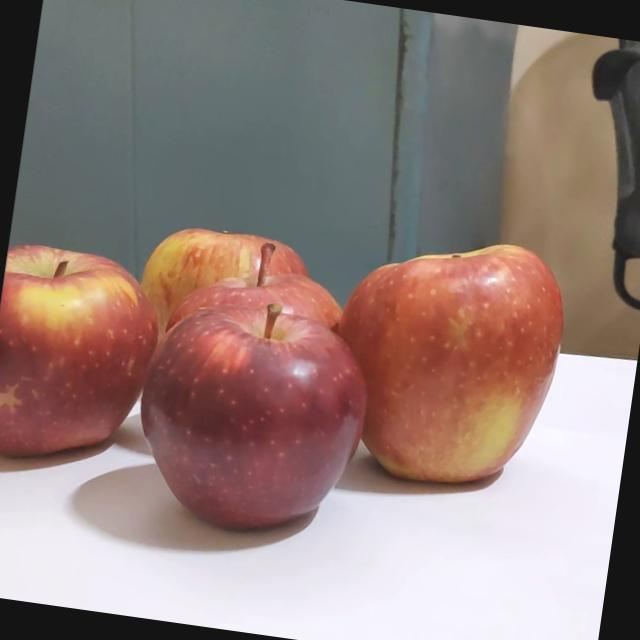apple: (343, 241, 582, 503), (148, 302, 388, 550), (170, 236, 366, 465), (0, 240, 185, 471), (173, 234, 349, 431)
